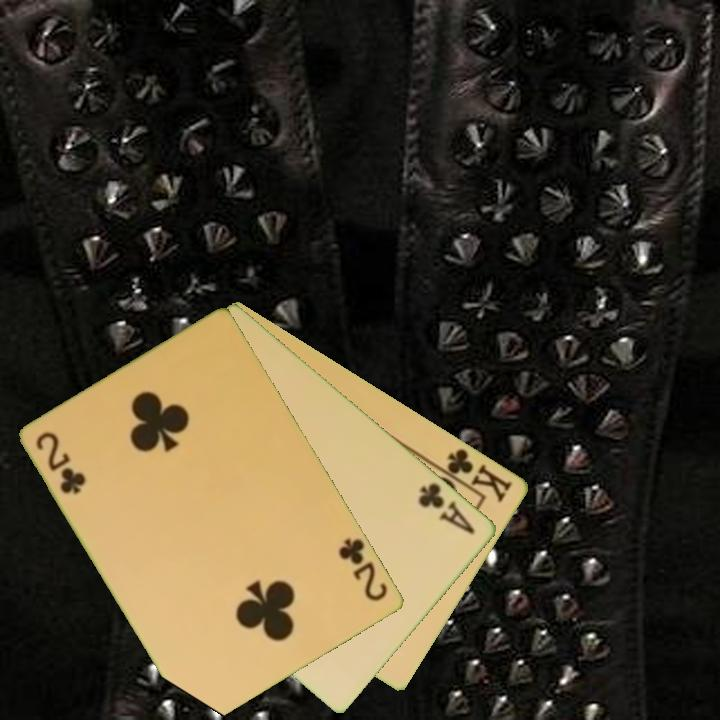2c: (335, 534, 391, 605), (33, 428, 89, 498)
Ac: (415, 479, 479, 537)
Kc: (434, 444, 516, 505)
